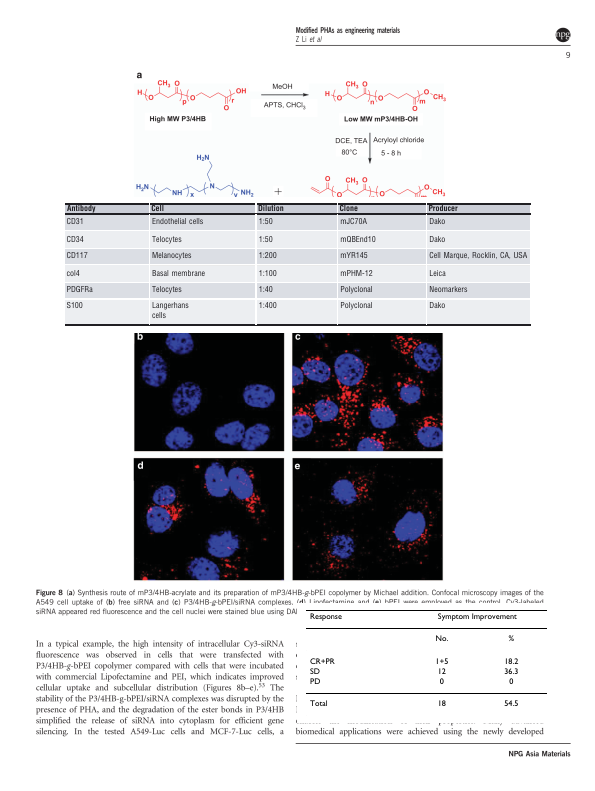borderless: (65, 202, 531, 324), (304, 608, 548, 717)
cell: (428, 251, 528, 261), (150, 301, 189, 321), (436, 613, 517, 622), (150, 269, 206, 278), (150, 217, 204, 226), (150, 251, 192, 261), (428, 285, 468, 295), (339, 285, 373, 295), (339, 301, 373, 311), (339, 235, 376, 244), (150, 285, 182, 295), (65, 204, 96, 214), (427, 204, 458, 214), (339, 269, 373, 278), (308, 613, 342, 622), (339, 251, 368, 261), (150, 235, 182, 244), (256, 204, 284, 214), (65, 285, 93, 295), (308, 657, 335, 667), (339, 217, 367, 226), (65, 251, 88, 261), (338, 204, 358, 214), (257, 251, 277, 261), (257, 301, 277, 311), (257, 269, 277, 278), (65, 301, 83, 311), (428, 301, 446, 311), (308, 700, 328, 709), (65, 217, 84, 226), (65, 235, 84, 244), (428, 217, 446, 226), (428, 235, 446, 244), (428, 269, 446, 278), (257, 285, 273, 295), (503, 657, 519, 667), (503, 667, 519, 677), (434, 657, 449, 667), (257, 217, 273, 226), (257, 235, 273, 244), (503, 700, 519, 709), (150, 204, 164, 214), (65, 269, 80, 278), (434, 635, 449, 644), (308, 667, 320, 677), (308, 678, 321, 687), (436, 667, 446, 677), (436, 700, 446, 709), (507, 635, 515, 644), (438, 678, 444, 687), (508, 678, 514, 687)
